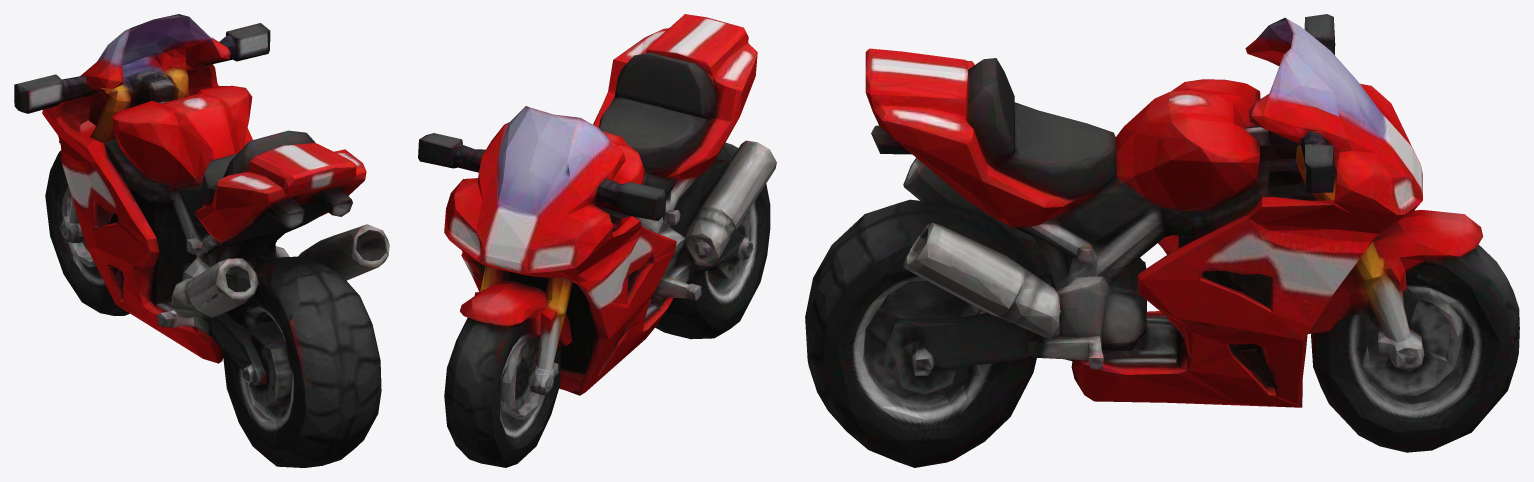
File: cs_v_moto.glb
3 renders of one model, left to right at view 1: azimuth 30°, elevation 25°; view 2: azimuth 150°, elevation 25°; view 3: azimuth 270°, elevation 25°, orthographic. The views are drawn at different scales.
Parts seen in each view (by area): view 1: v_moto; view 2: v_moto; view 3: v_moto.
Boxes of the visible parts, left/top/right/bottom form: v_moto: left=14, top=14, right=389, bottom=467; v_moto: left=418, top=14, right=776, bottom=467; v_moto: left=805, top=14, right=1519, bottom=467.
Size of the model in its own units: 1.27 by 1.63 by 2.5.
Materials: 1 (1 with a texture image).
